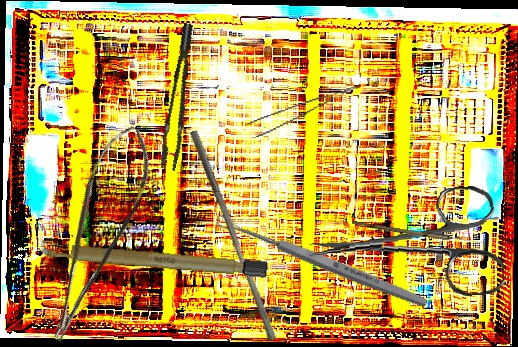Iris Scissors: (305, 184, 506, 307)
Micro Scissor: (14, 118, 170, 346)
Pusher: (181, 129, 284, 342)
Scalpel Handle: (36, 239, 269, 279)
Surgical Spoon: (212, 211, 431, 311), (351, 220, 484, 246)
Tissue Forceps: (146, 22, 213, 172), (245, 85, 365, 139)
